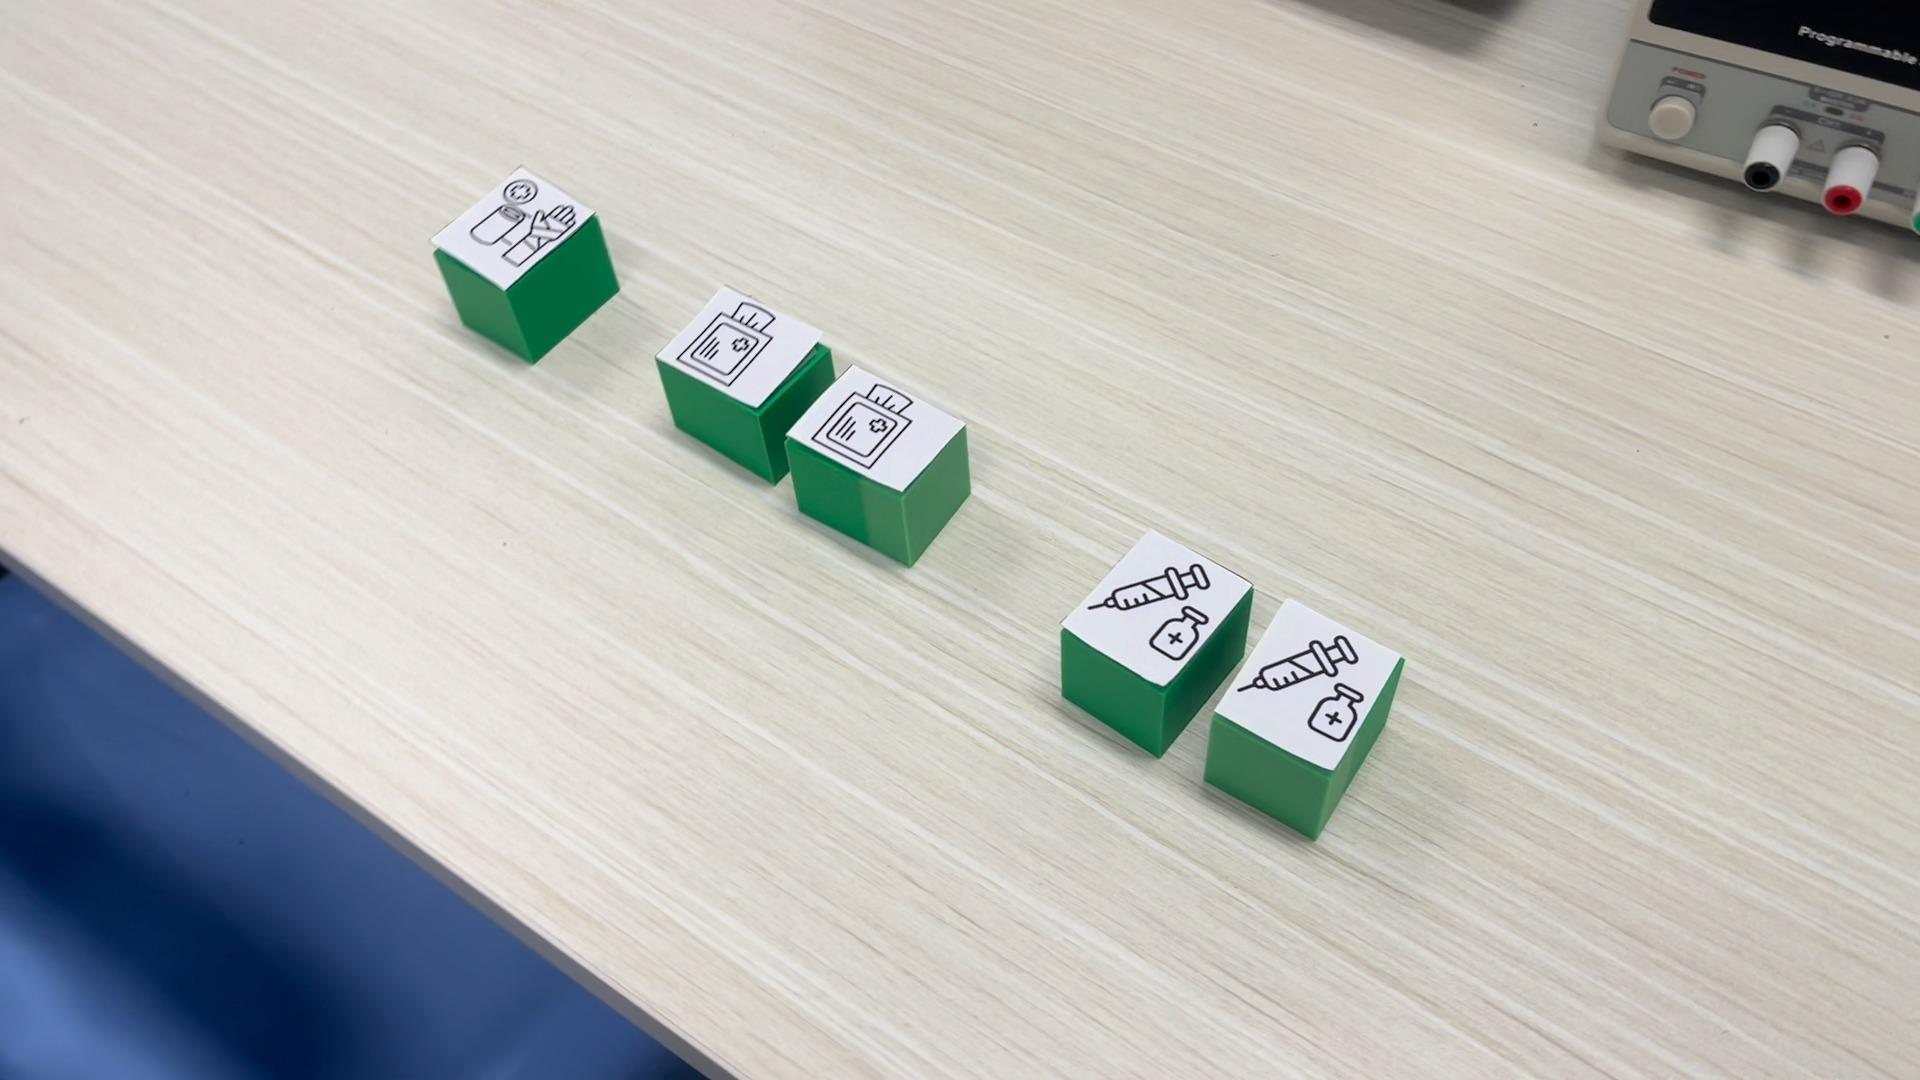Bandages: (429, 164, 618, 363)
Gauze: (777, 361, 971, 566), (655, 282, 818, 484)
antiseptic cream: (1197, 597, 1407, 840), (1063, 529, 1244, 753)
